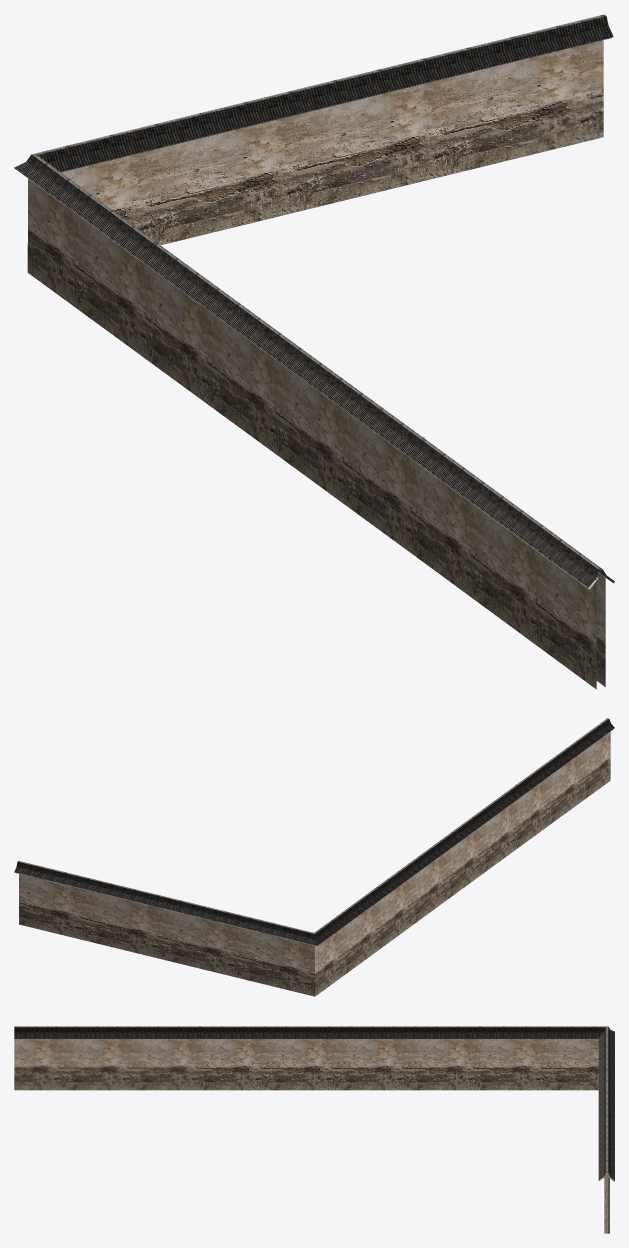
The model's file is ian1624.obj.
3 renders of one model, top to bottom at view 1: azimuth 30°, elevation 25°; view 2: azimuth 150°, elevation 25°; view 3: azimuth 270°, elevation 25°, orthographic. The views are drawn at different scales.
Parts seen in each view (by area): view 1: ian1624; view 2: ian1624; view 3: ian1624.
Boxes of the visible parts, x1,y1,x2,y2 form: ian1624: (14,14,614,689); ian1624: (14,718,614,996); ian1624: (14,1026,614,1233).
Size of the model in its own units: 360 by 71.32 by 612.
